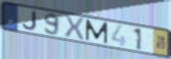1: (133, 27, 143, 51)
4: (110, 24, 128, 49)
9: (43, 13, 61, 36)
J: (21, 10, 38, 32)
M: (85, 18, 109, 45)
X: (64, 14, 86, 41)
